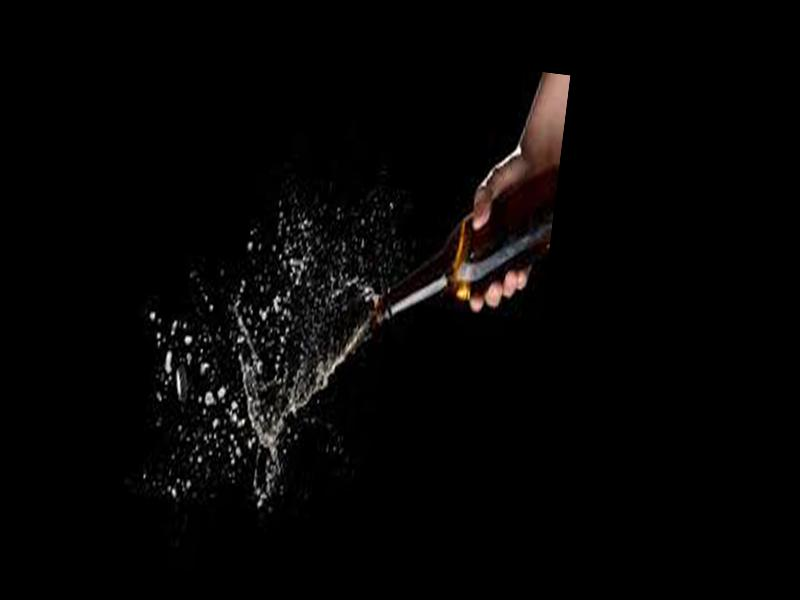Beer: (373, 141, 558, 347)
